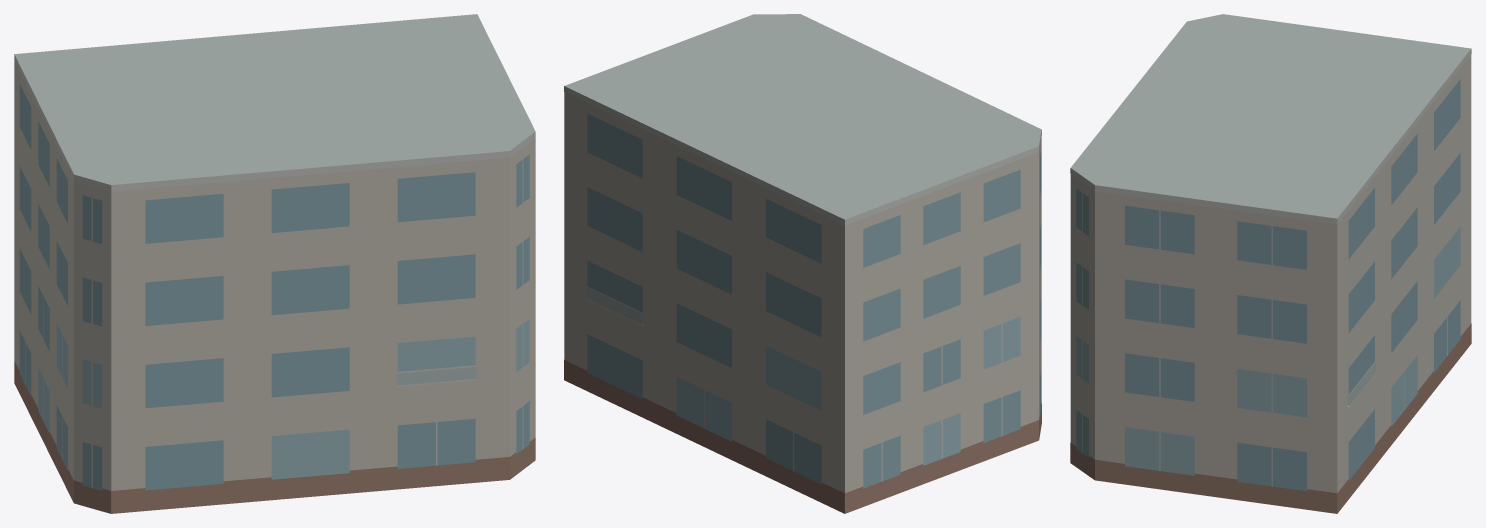
The model's file is survey-upis-32702987.glb.
The picture shows the model from 3 angles, left to right: view 1: azimuth 30°, elevation 25°; view 2: azimuth 150°, elevation 25°; view 3: azimuth 270°, elevation 25°; orthographic projection. The views are drawn at different scales.
Parts seen in each view (by area): view 1: survey-upis-32702987.tmp; view 2: survey-upis-32702987.tmp; view 3: survey-upis-32702987.tmp.
Part boxes in pixels (x1=…): survey-upis-32702987.tmp: x1=14, y1=14, x2=535, y2=513; survey-upis-32702987.tmp: x1=564, y1=14, x2=1041, y2=513; survey-upis-32702987.tmp: x1=1070, y1=14, x2=1471, y2=513.
Size of the model in its own units: 18.14 by 12.2 by 15.02.
